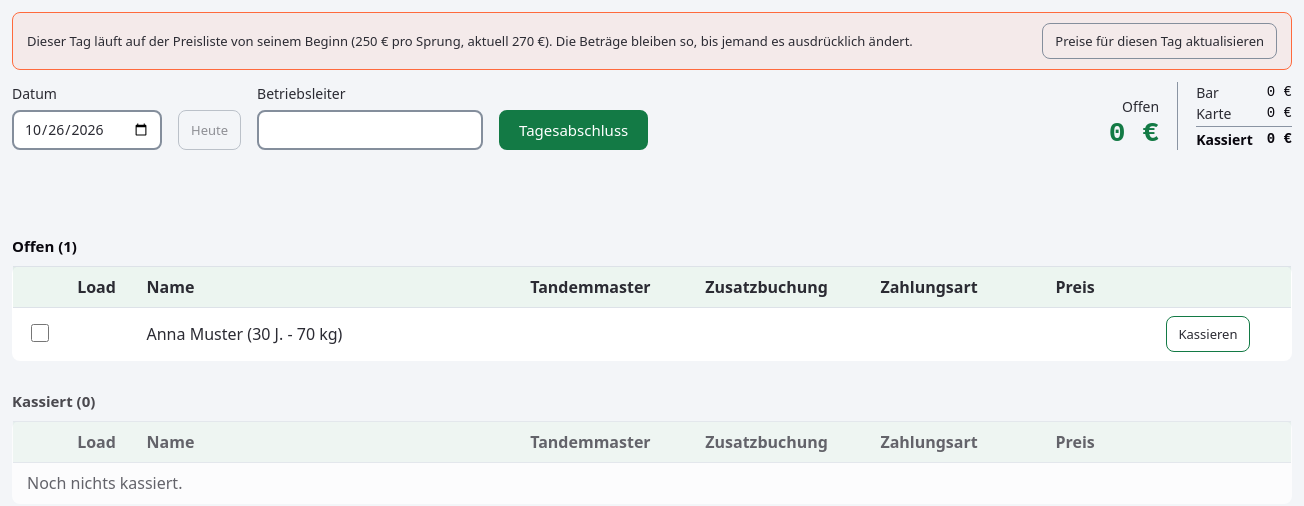
List › a day older than the price list › says so, and offers to move the whole day
Expected: the text "läuft auf der Preisliste von seinem Beginn" is shown, 27,32 -> 355,50
Click the button "Preise für diesen Tag aktualisieren" at (1160, 41), box 1042,23 -> 1277,59
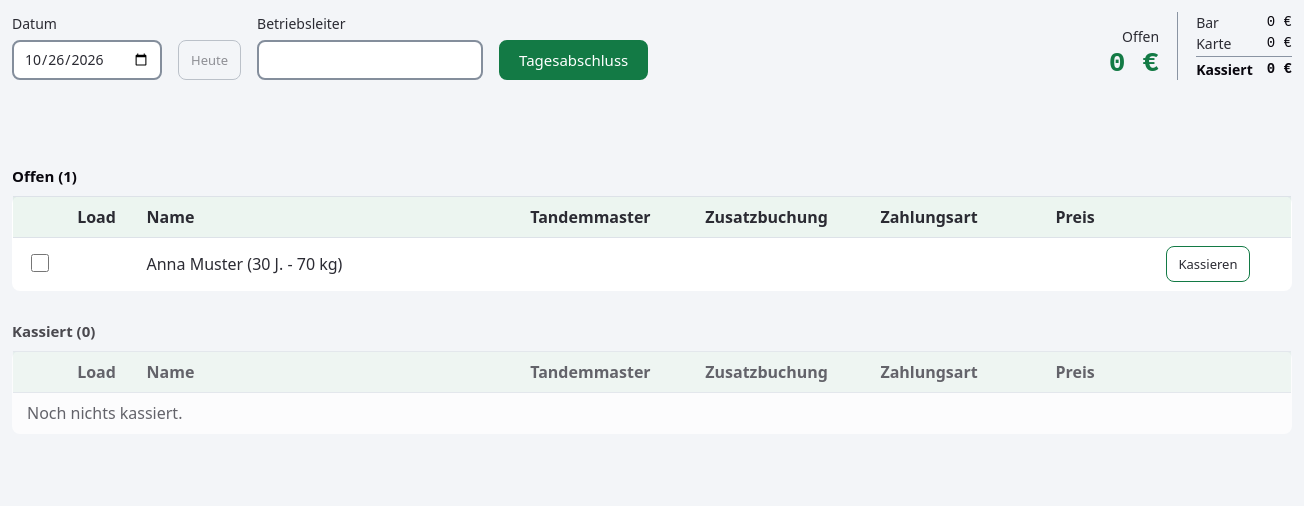
Result: the text "läuft auf der Preisliste" is gone
